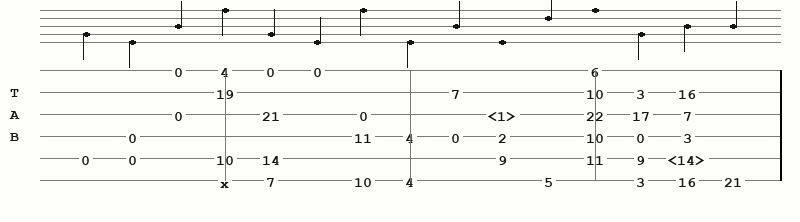0: (81, 152, 94, 165), (128, 152, 141, 165), (128, 130, 141, 143), (174, 108, 187, 121), (174, 64, 187, 77), (266, 64, 279, 77), (313, 64, 326, 77), (359, 108, 372, 121), (451, 130, 464, 143), (636, 130, 649, 143)
10: (216, 152, 238, 165), (354, 174, 376, 187), (586, 86, 608, 99), (586, 130, 608, 143)
11: (354, 130, 376, 143), (586, 152, 608, 165)
14: (262, 152, 284, 165)
16: (678, 86, 700, 99), (678, 174, 700, 187)
17: (632, 108, 654, 121)
19: (216, 86, 238, 99)
2: (498, 130, 511, 143)
21: (262, 108, 284, 121), (724, 174, 746, 187)
22: (586, 108, 608, 121)
3: (636, 174, 649, 187), (636, 86, 649, 99), (683, 130, 696, 143)
4: (220, 64, 233, 77), (405, 174, 418, 187), (405, 130, 418, 143)
5: (544, 174, 557, 187)
6: (590, 64, 603, 77)
7: (266, 174, 279, 187), (451, 86, 464, 99), (683, 108, 696, 121)
9: (498, 152, 511, 165), (636, 152, 649, 165)
harmonic: (668, 152, 710, 165), (488, 108, 521, 121)
x: (220, 175, 233, 185)
